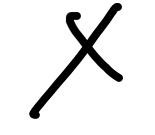mult: (29, 3, 124, 116)
